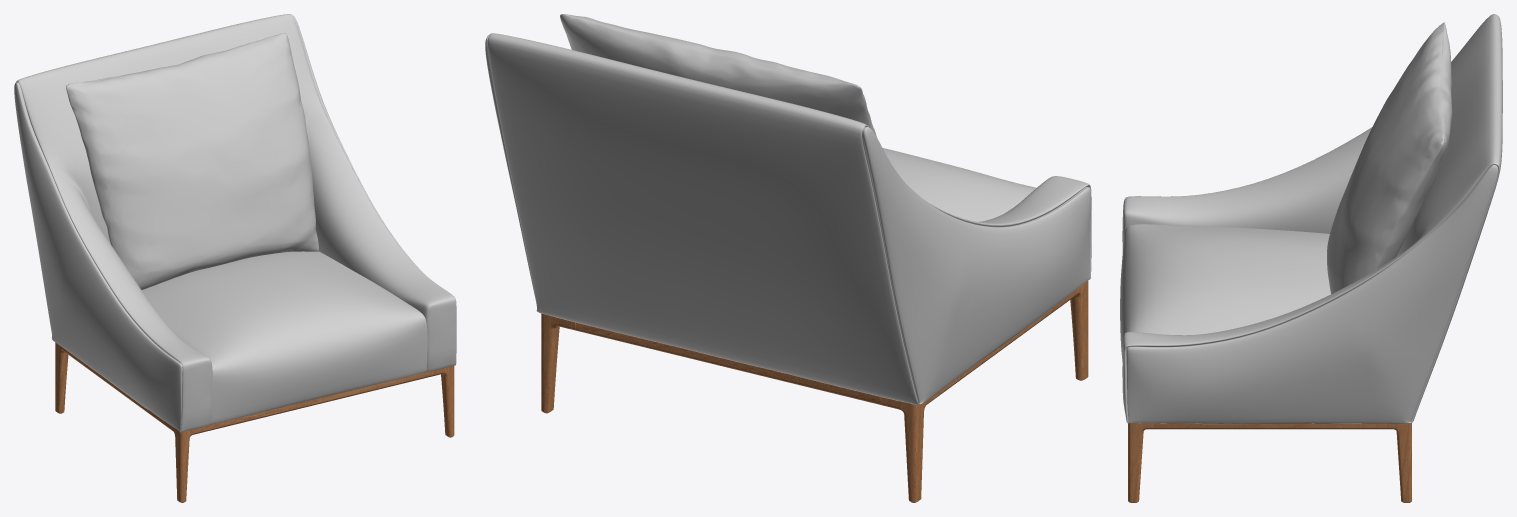
The picture shows the model from 3 angles, left to right: view 1: azimuth 30°, elevation 25°; view 2: azimuth 150°, elevation 25°; view 3: azimuth 270°, elevation 25°; orthographic projection. The views are drawn at different scales.
Visible parts, largest first — view 1: jean_obj; view 2: jean_obj; view 3: jean_obj.
Part boxes in pixels (<box>): jean_obj: <box>14,14,456,502</box>; jean_obj: <box>485,14,1091,502</box>; jean_obj: <box>1120,14,1502,502</box>.
Bounding box in the file's own units: 1 × 1 × 1.
